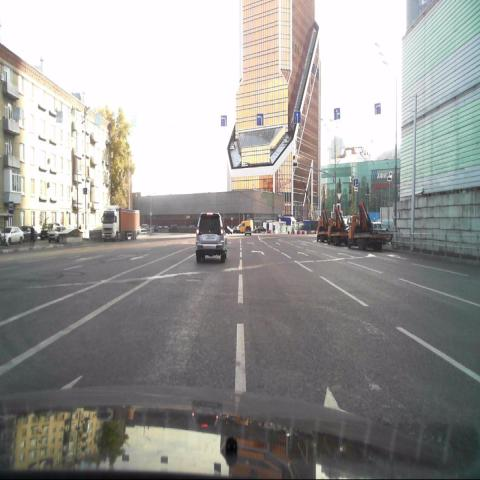5_15_2: (293, 110, 301, 123), (374, 102, 381, 115), (256, 114, 263, 126), (333, 107, 340, 119), (221, 117, 227, 129)
